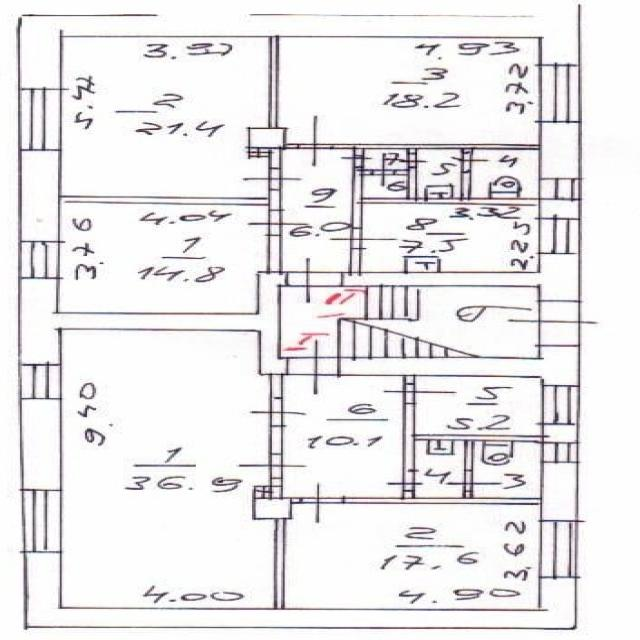Bathrooms: (475, 441, 540, 498), (474, 151, 538, 198), (417, 441, 461, 496), (420, 151, 460, 198)
Corridors: (286, 377, 402, 496), (283, 149, 350, 270), (364, 176, 409, 198), (364, 151, 405, 168)
Doors: (505, 301, 602, 346), (286, 337, 340, 398), (288, 253, 341, 304), (296, 109, 334, 168), (302, 481, 345, 525), (236, 453, 311, 478), (245, 209, 311, 237), (379, 382, 458, 405), (249, 398, 311, 427), (326, 228, 400, 250), (240, 167, 301, 190), (447, 470, 502, 491), (451, 148, 492, 174), (384, 470, 429, 491), (372, 151, 396, 186), (338, 148, 376, 169), (397, 148, 430, 169)
LBwalls: (24, 552, 579, 630), (15, 14, 584, 88), (56, 270, 290, 375), (21, 399, 64, 488), (20, 150, 61, 240), (18, 278, 61, 363), (339, 358, 541, 376), (341, 272, 540, 287), (541, 121, 580, 179), (543, 462, 580, 521), (538, 253, 580, 301), (539, 345, 580, 386), (251, 497, 293, 520), (247, 127, 287, 148), (538, 199, 579, 218), (541, 424, 579, 443)
Offices: (61, 330, 275, 608), (60, 38, 268, 196), (278, 37, 539, 144), (286, 504, 540, 610), (61, 203, 268, 313), (364, 204, 538, 271), (417, 377, 538, 434)
Stairs: (283, 288, 538, 356)
Walls: (352, 168, 539, 229), (402, 404, 544, 471), (61, 190, 282, 210), (344, 491, 541, 505), (333, 144, 540, 150), (275, 519, 285, 610), (268, 38, 277, 129), (246, 148, 282, 167), (253, 478, 283, 498), (267, 236, 281, 271), (269, 426, 283, 453), (349, 248, 362, 271), (270, 375, 283, 397), (284, 143, 297, 150), (290, 496, 302, 503)
Windows: (18, 88, 61, 151), (20, 488, 61, 553), (538, 65, 580, 122), (538, 520, 579, 578), (540, 385, 579, 426), (20, 240, 61, 279), (18, 363, 61, 400), (537, 217, 579, 254), (538, 178, 582, 200), (543, 442, 580, 463)
